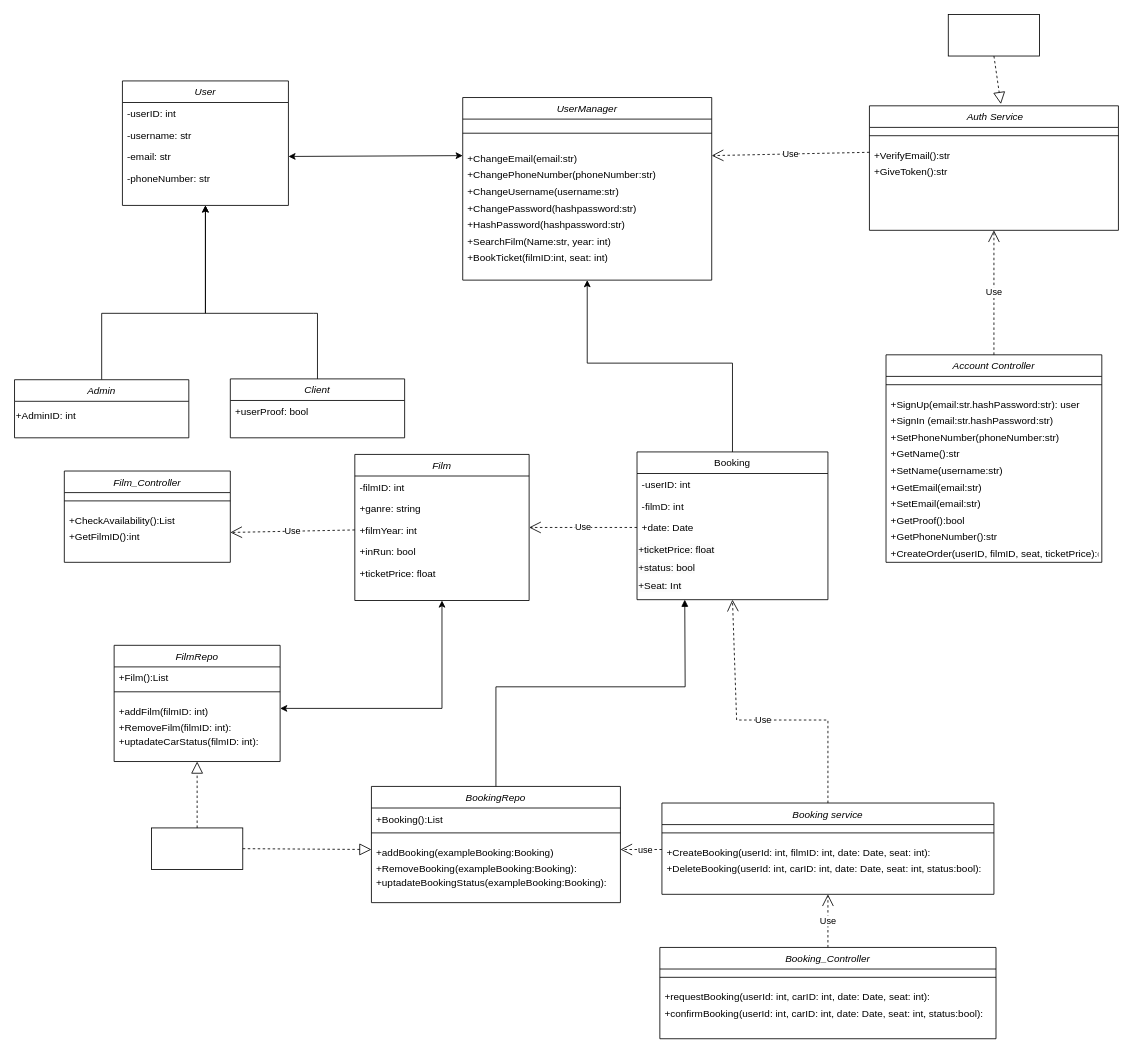
The diagram is 1135 pixels wide and 1053 high, and some of its shapes have lost their labels. Here are the shapes that lost their labels. From the top down, the centre of each, then its label:
(x=993, y=35): "interface" iBaseAuthInterface
(x=197, y=848): "interface" iBaseRepo
